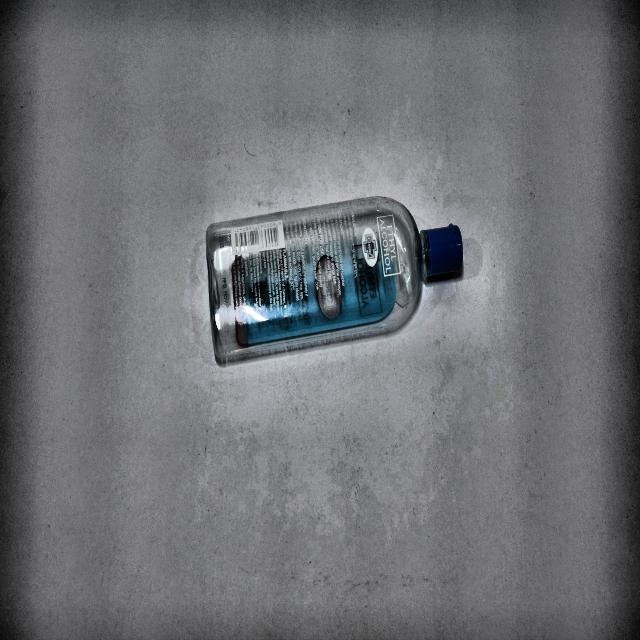plastic bottle: (206, 196, 463, 363)
